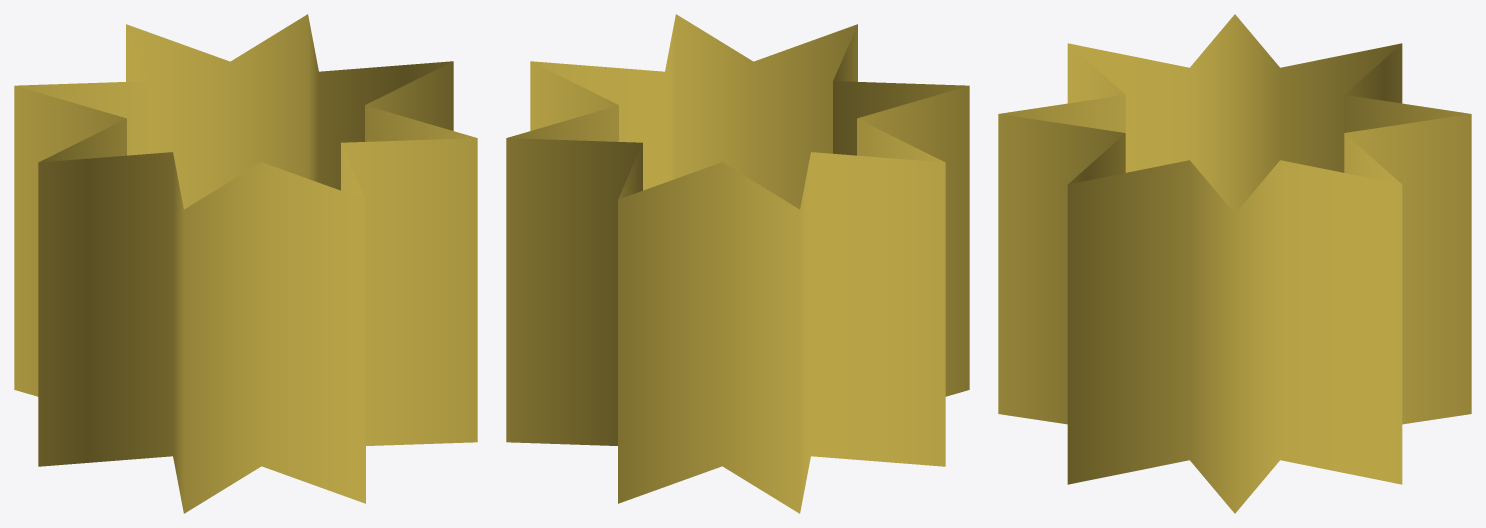
The picture shows the model from 3 angles, left to right: view 1: azimuth 30°, elevation 25°; view 2: azimuth 150°, elevation 25°; view 3: azimuth 270°, elevation 25°; orthographic projection.
Parts seen in each view (by area): view 1: Optical Lens & Shutter; view 2: Optical Lens & Shutter; view 3: Optical Lens & Shutter.
Part boxes in pixels (x1,y1,x2,y2): Optical Lens & Shutter: [14, 14, 477, 513]; Optical Lens & Shutter: [506, 14, 969, 513]; Optical Lens & Shutter: [998, 14, 1471, 513].
Size of the model in its own units: 1 by 0.7 by 1.
